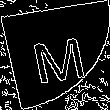M_N: (24, 26, 86, 84)
